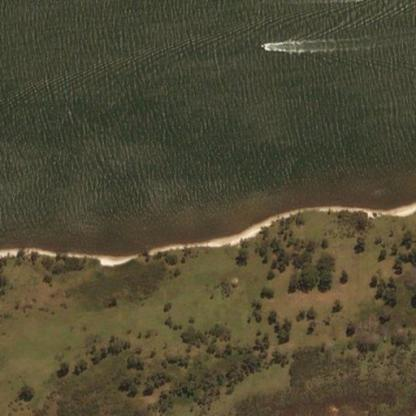ship: (254, 38, 274, 54)
